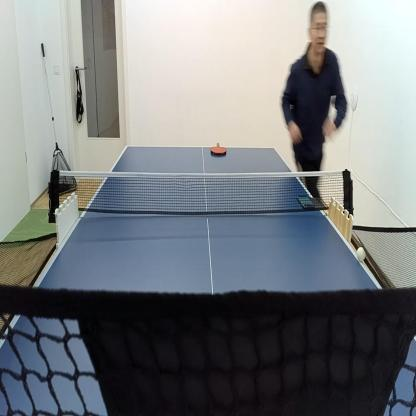Ball: (356, 246, 366, 262)
